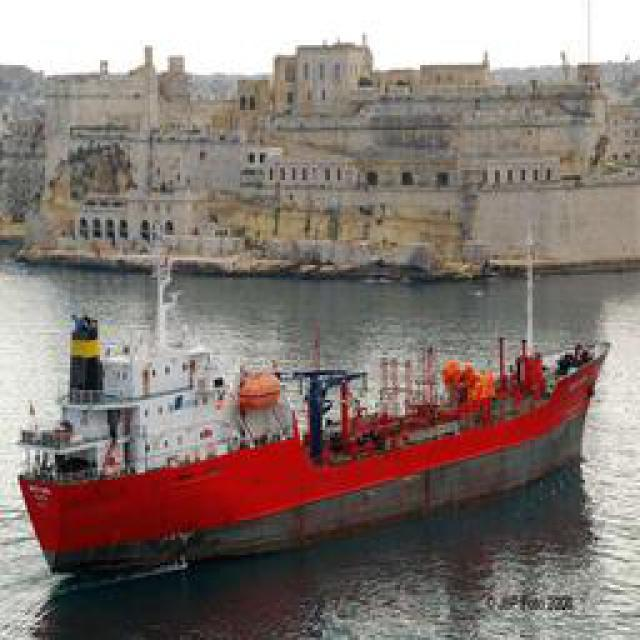Ship: (18, 251, 616, 584)
